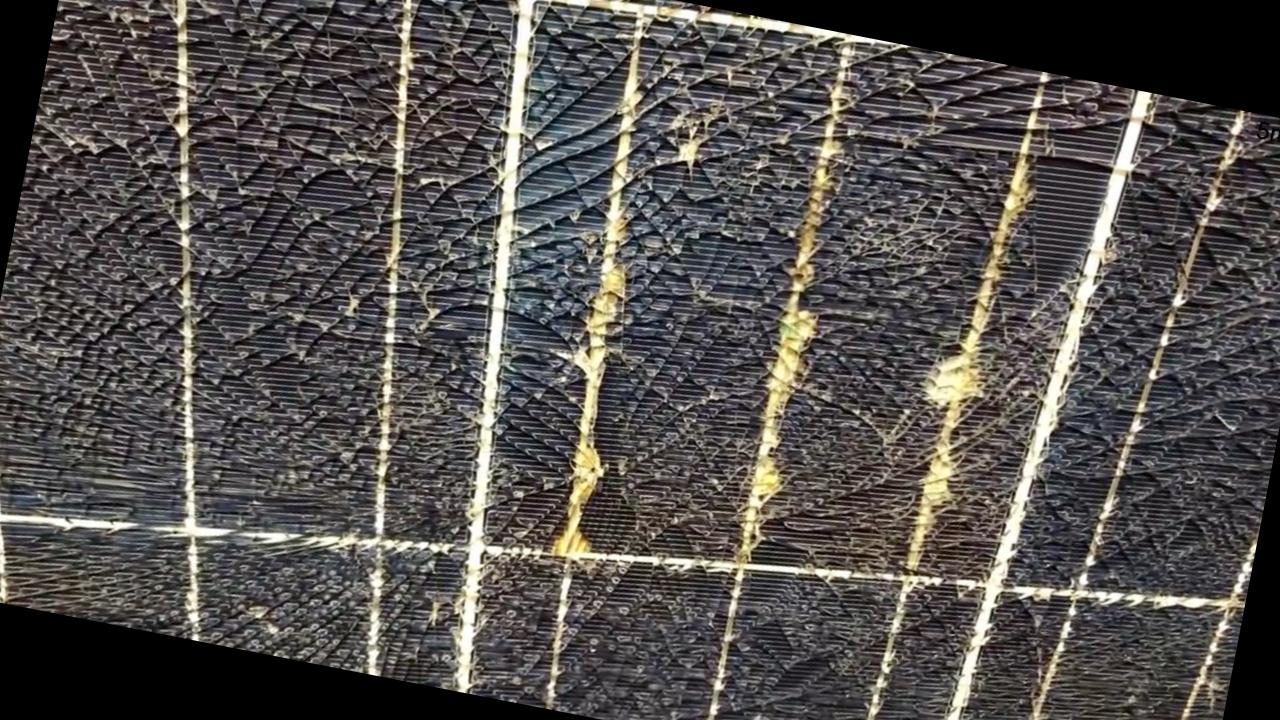Crack: (0, 0, 1279, 719), (95, 0, 737, 570), (774, 237, 1116, 549)
